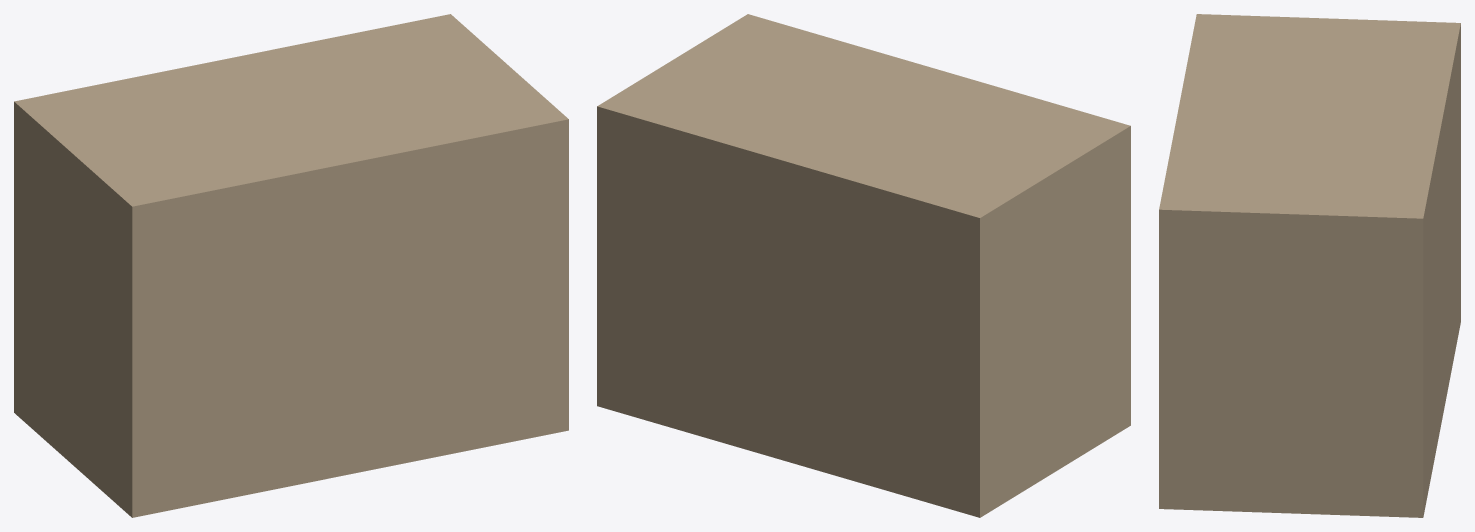
File: bld_99739300.dae
The picture shows the model from 3 angles, left to right: view 1: azimuth 30°, elevation 25°; view 2: azimuth 150°, elevation 25°; view 3: azimuth 270°, elevation 25°; orthographic projection. The views are drawn at different scales.
Parts seen in each view (by area): view 1: bld_99739300; view 2: bld_99739300; view 3: bld_99739300.
Part boxes in pixels (x1,y1,x2,y2): bld_99739300: (14, 14, 568, 517); bld_99739300: (597, 14, 1130, 517); bld_99739300: (1159, 14, 1460, 517).
Size of the model in its own units: 11.74 by 7.31 by 8.
